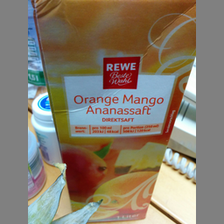juice: (32, 1, 194, 218)
